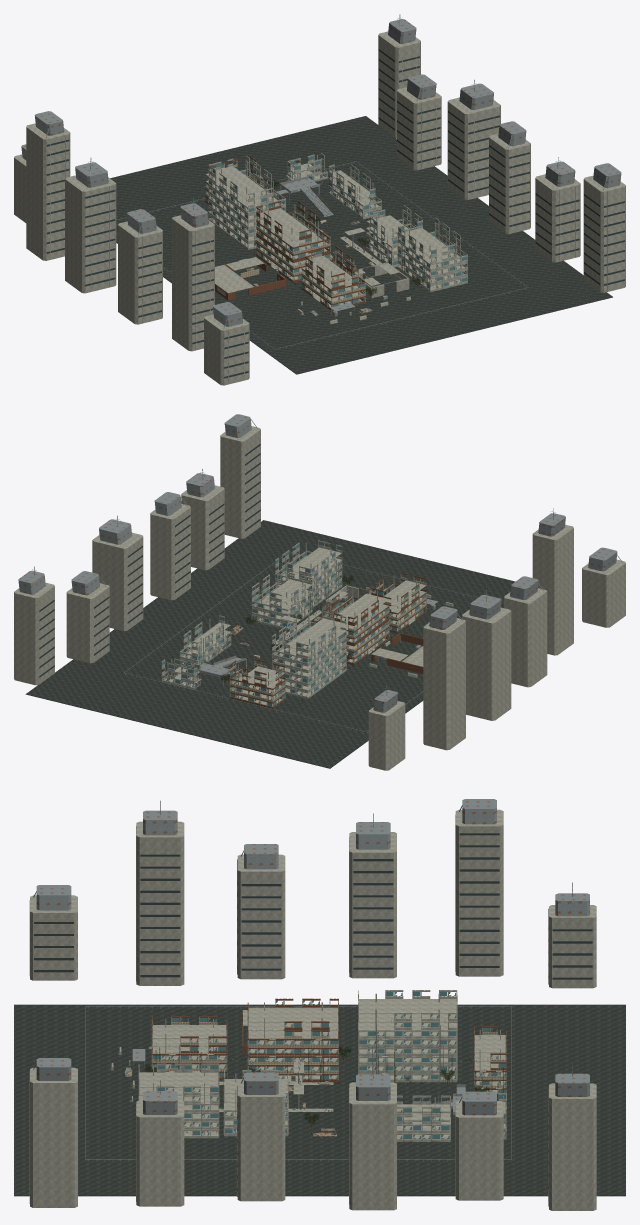
Rendered from Vesper_Secours_07.glb.
3 renders of one model, top to bottom at view 1: azimuth 30°, elevation 25°; view 2: azimuth 150°, elevation 25°; view 3: azimuth 270°, elevation 25°, orthographic. The views are drawn at different scales.
Visible parts, largest first — view 1: Terrain; view 2: Terrain; view 3: Terrain.
Part boxes in pixels (x1,y1,x2,y2): Terrain: (14, 14, 625, 385); Terrain: (14, 414, 625, 770); Terrain: (14, 799, 625, 1210).
Size of the model in its own units: 225 by 73.84 by 230.
14 materials, 10 textured.
